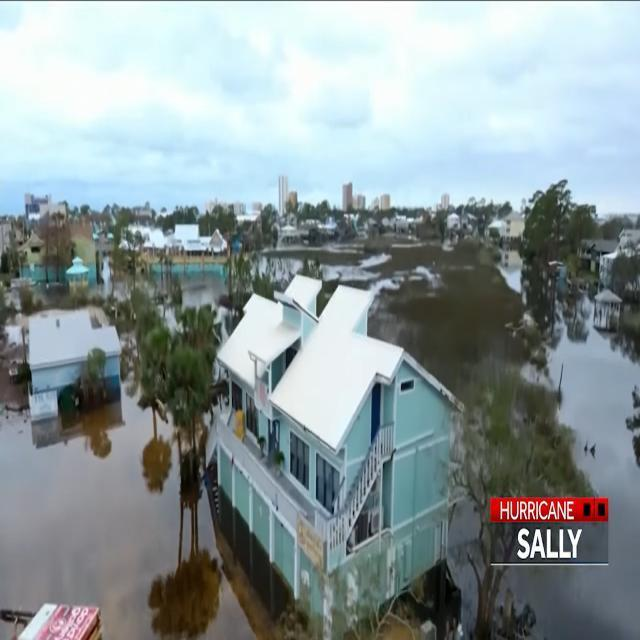flood: (0, 392, 277, 640), (509, 301, 640, 640), (149, 264, 227, 328), (252, 256, 302, 290), (322, 253, 382, 281), (497, 268, 522, 292)
house: (217, 291, 458, 597), (29, 311, 124, 403)
